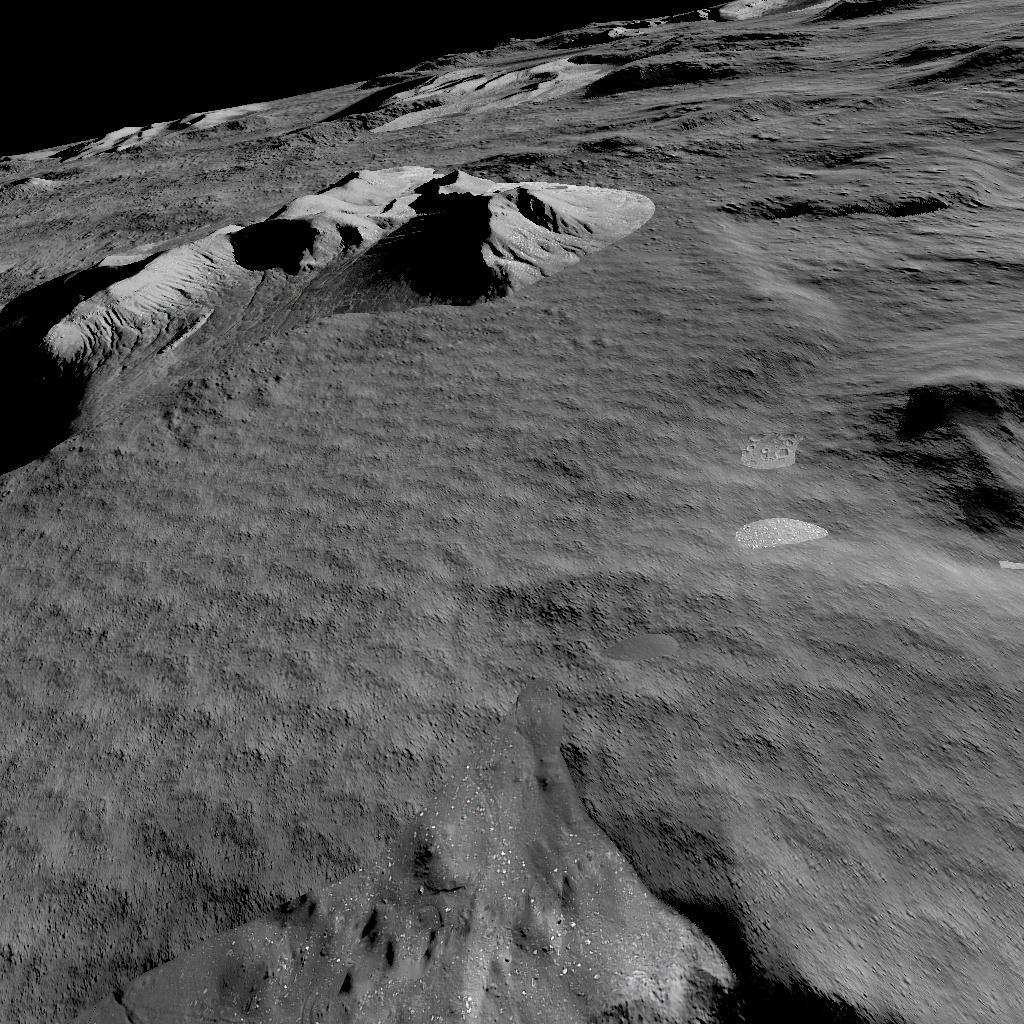Boulders: (0, 160, 660, 465), (338, 0, 818, 130), (54, 95, 260, 148)
Crater: (0, 835, 1024, 1024), (906, 360, 1024, 565), (721, 190, 963, 233)
Plan surface: (0, 478, 893, 822)
